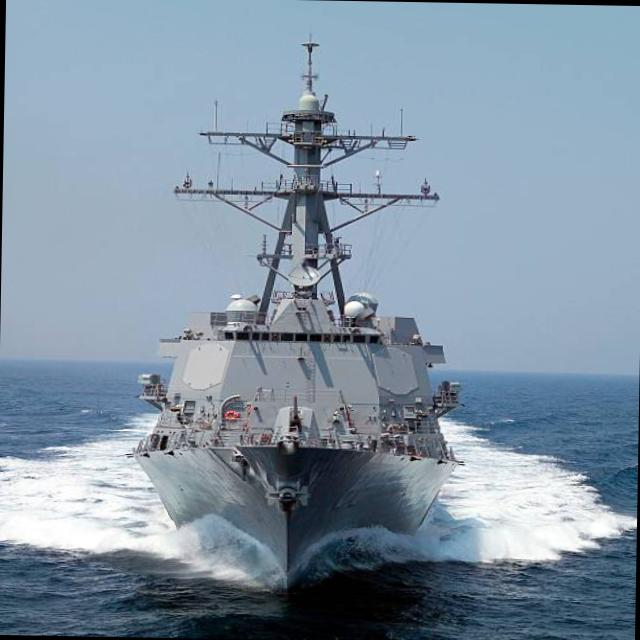Military: (133, 40, 464, 591)
